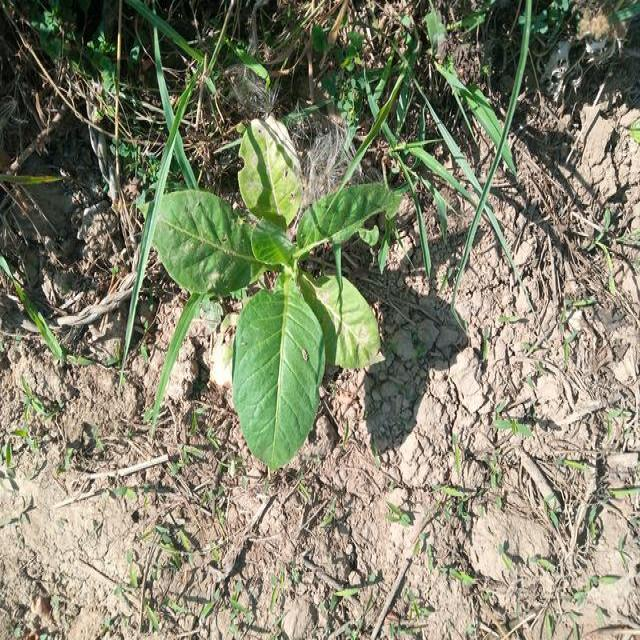crop: (150, 123, 395, 469)
